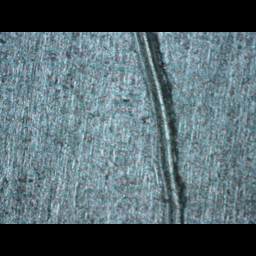d: (129, 32, 187, 224)
